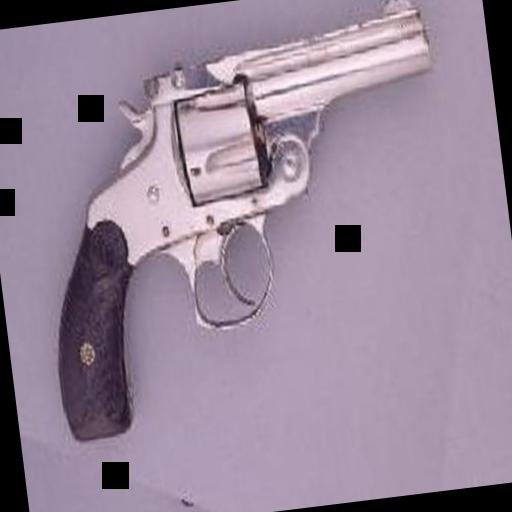Handgun: (12, 0, 472, 445)
